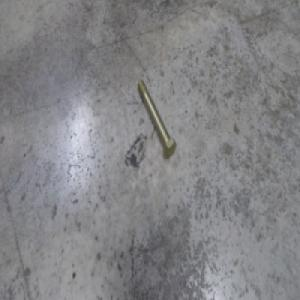Bolt: (135, 79, 176, 161)
